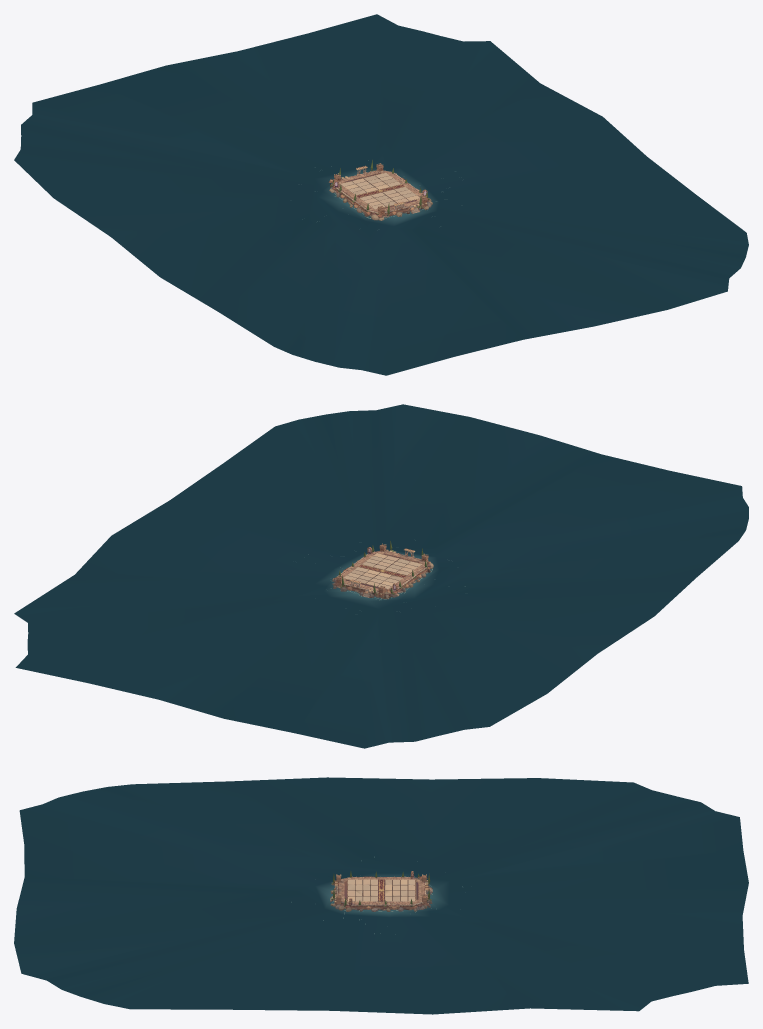
The model's file is arena_rome.glb.
3 renders of one model, top to bottom at view 1: azimuth 30°, elevation 25°; view 2: azimuth 150°, elevation 25°; view 3: azimuth 270°, elevation 25°, orthographic. The views are drawn at different scales.
Parts seen in each view (by area): view 1: Portrait arena with baked illumination; view 2: Portrait arena with baked illumination; view 3: Portrait arena with baked illumination.
Boxes of the visible parts, left/top/right/bottom form: Portrait arena with baked illumination: left=14, top=14, right=748, bottom=375; Portrait arena with baked illumination: left=14, top=404, right=748, bottom=748; Portrait arena with baked illumination: left=14, top=777, right=748, bottom=1014.
Size of the model in its own units: 124 by 4.23 by 163.
